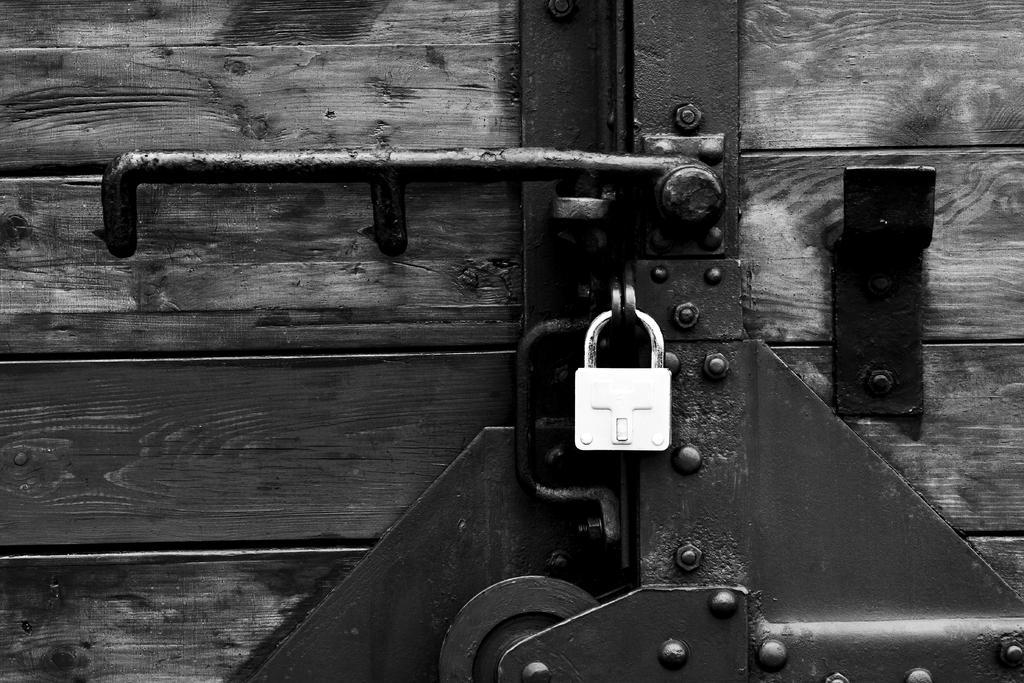handle: (98, 138, 736, 248)
